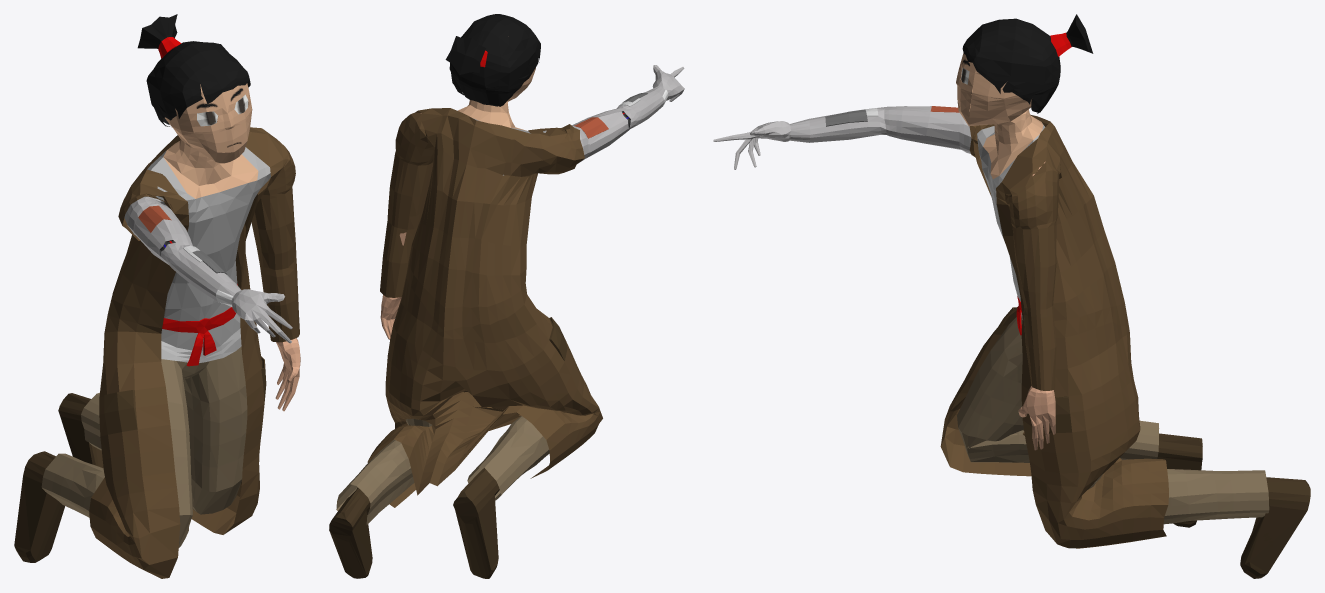
File: One_Die_000025.obj
3 renders of one model, left to right at view 1: azimuth 30°, elevation 25°; view 2: azimuth 150°, elevation 25°; view 3: azimuth 270°, elevation 25°, orthographic. The views are drawn at different scales.
Visible parts, largest first — view 1: Hair_Cube.004; view 2: Hair_Cube.004; view 3: Hair_Cube.004.
Boxes of the visible parts, box(x1,y1,x2,y2) form: Hair_Cube.004: box(14, 14, 300, 578); Hair_Cube.004: box(329, 14, 684, 578); Hair_Cube.004: box(713, 14, 1310, 578).
Size of the model in its own units: 1.2 by 3.03 by 3.01.
